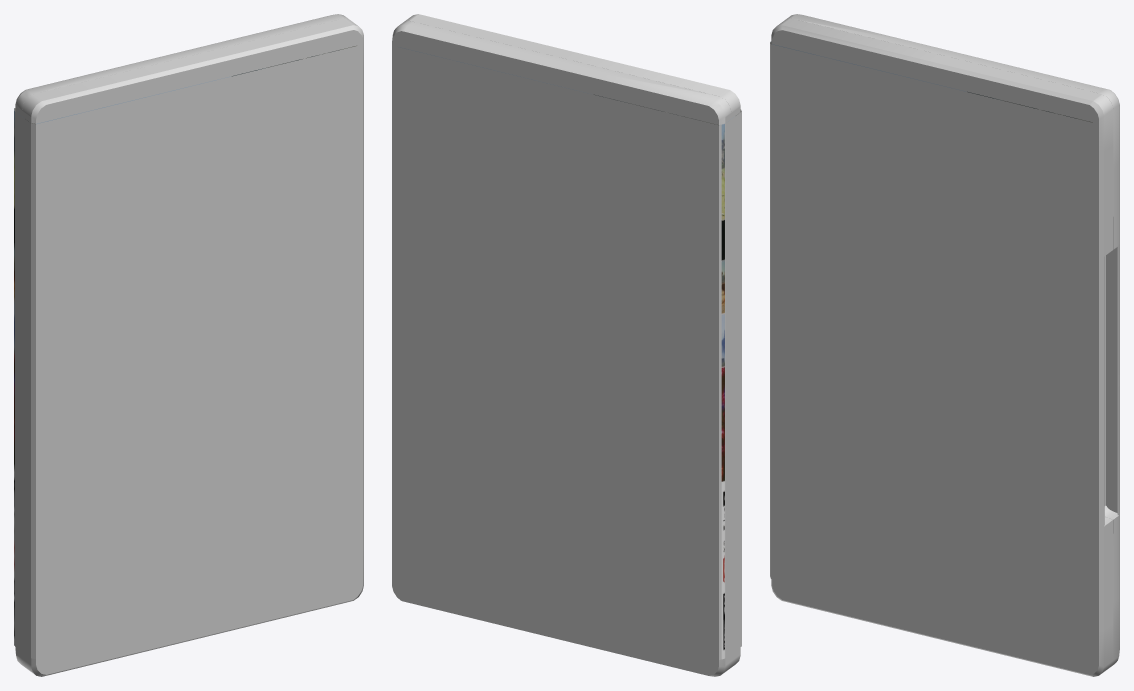
The model's file is SwitchCase.glb.
3 renders of one model, left to right at view 1: azimuth 30°, elevation 25°; view 2: azimuth 150°, elevation 25°; view 3: azimuth 330°, elevation 25°, orthographic.
Parts seen in each view (by area): view 1: foil, box, Spine; view 2: foil, box, Spine; view 3: foil, box.
Part boxes in pixels (left/top/right/bottom): foil: left=14, top=45, right=360, bottom=658; box: left=15, top=14, right=363, bottom=676; Spine: left=14, top=110, right=34, bottom=645; foil: left=394, top=46, right=741, bottom=659; box: left=392, top=14, right=740, bottom=676; Spine: left=719, top=111, right=741, bottom=659; foil: left=770, top=41, right=1095, bottom=657; box: left=771, top=14, right=1119, bottom=676.
Bounding box in the file's own units: 10.39 × 17.15 × 1.19.
2 materials, 1 textured.
